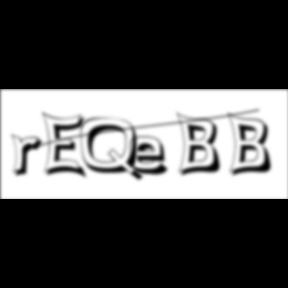B: (177, 111, 227, 179), (228, 111, 278, 179)
E: (42, 110, 90, 182)
Q: (81, 117, 147, 184)
e: (130, 135, 176, 178)
r: (11, 134, 49, 180)
